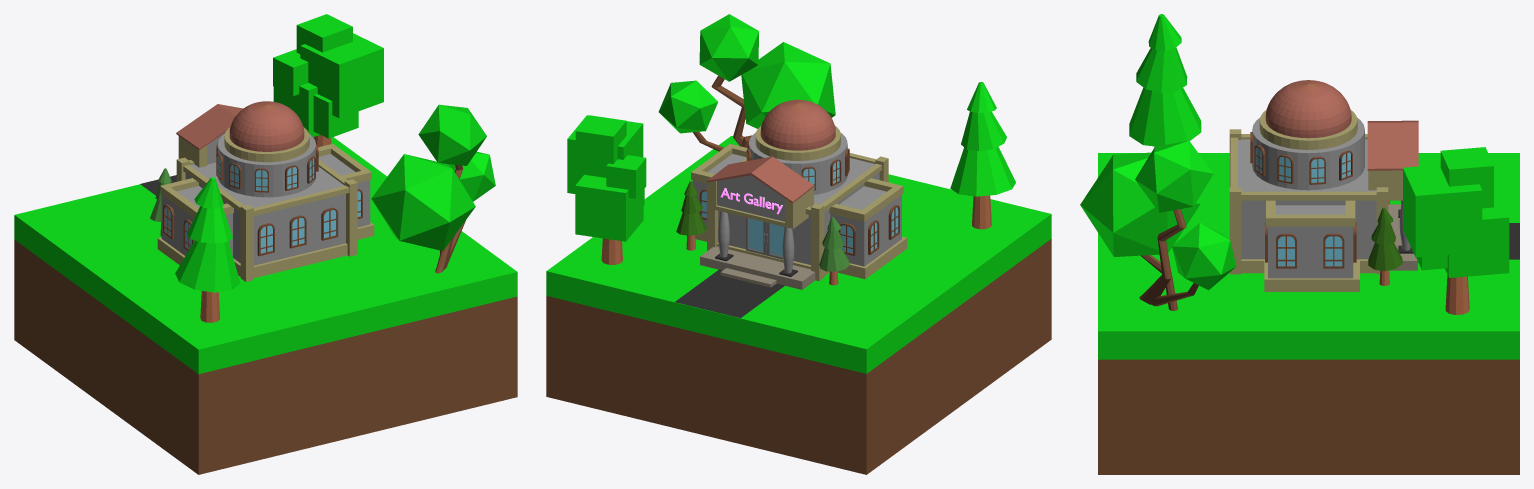
Rendered from Art_Gallery.glb.
The picture shows the model from 3 angles, left to right: view 1: azimuth 30°, elevation 25°; view 2: azimuth 150°, elevation 25°; view 3: azimuth 270°, elevation 25°; orthographic projection. The views are drawn at different scales.
Visible parts, largest first — view 1: Earth.001, Earth.018, Earth.143, Earth.003, Earth.148, Earth.019, Earth.004, Earth.002, Earth.136, Earth.016, Earth.147, Earth.144 (+9 smaller); view 2: Earth.001, Earth.018, Earth.143, Earth.003, Earth.146, Earth.004, Earth.019, Earth.005, Earth.002, Earth.139, Earth.136, Earth.007 (+13 smaller); view 3: Earth.001, Earth.018, Earth.143, Earth.148, Earth.003, Earth.019, Earth.004, Earth.139, Earth.146, Earth.136, Earth.002, Earth.024 (+11 smaller).
Boxes of the visible parts, left/top/right/bottom form: Earth.001: left=14, top=137, right=517, bottom=474; Earth.018: left=161, top=133, right=370, bottom=265; Earth.143: left=371, top=154, right=475, bottom=250; Earth.003: left=175, top=177, right=240, bottom=322; Earth.148: left=300, top=33, right=383, bottom=118; Earth.019: left=229, top=101, right=304, bottom=151; Earth.004: left=418, top=104, right=486, bottom=165; Earth.002: left=296, top=14, right=352, bottom=53; Earth.136: left=176, top=104, right=243, bottom=149; Earth.016: left=233, top=243, right=347, bottom=277; Earth.147: left=273, top=49, right=308, bottom=95; Earth.144: left=313, top=94, right=358, bottom=138; Earth.001: left=546, top=136, right=1051, bottom=474; Earth.018: left=692, top=133, right=901, bottom=266; Earth.143: left=741, top=42, right=835, bottom=128; Earth.003: left=950, top=82, right=1015, bottom=229; Earth.146: left=575, top=174, right=643, bottom=241; Earth.004: left=699, top=14, right=758, bottom=81; Earth.019: left=760, top=99, right=835, bottom=150; Earth.005: left=675, top=269, right=784, bottom=317; Earth.002: left=575, top=115, right=626, bottom=171; Earth.139: left=658, top=80, right=717, bottom=133; Earth.136: left=707, top=156, right=814, bottom=203; Earth.007: left=700, top=246, right=815, bottom=289; Earth.001: left=1098, top=153, right=1519, bottom=474; Earth.018: left=1238, top=117, right=1376, bottom=278; Earth.143: left=1080, top=152, right=1200, bottom=256; Earth.148: left=1403, top=164, right=1482, bottom=257; Earth.003: left=1129, top=14, right=1201, bottom=147; Earth.019: left=1265, top=80, right=1351, bottom=138; Earth.004: left=1135, top=140, right=1213, bottom=212; Earth.139: left=1172, top=223, right=1236, bottom=290; Earth.146: left=1445, top=192, right=1509, bottom=277; Earth.136: left=1367, top=120, right=1418, bottom=170; Earth.002: left=1440, top=147, right=1493, bottom=208; Earth.024: left=1264, top=259, right=1359, bottom=291.
Bounding box in the file's own units: 18.77 × 14.49 × 18.48.
